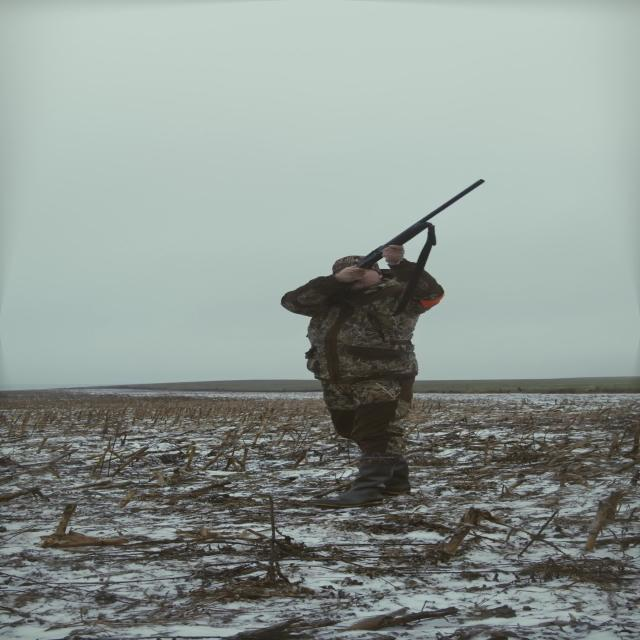poacher: (276, 236, 444, 508)
weapon: (342, 172, 497, 284)
